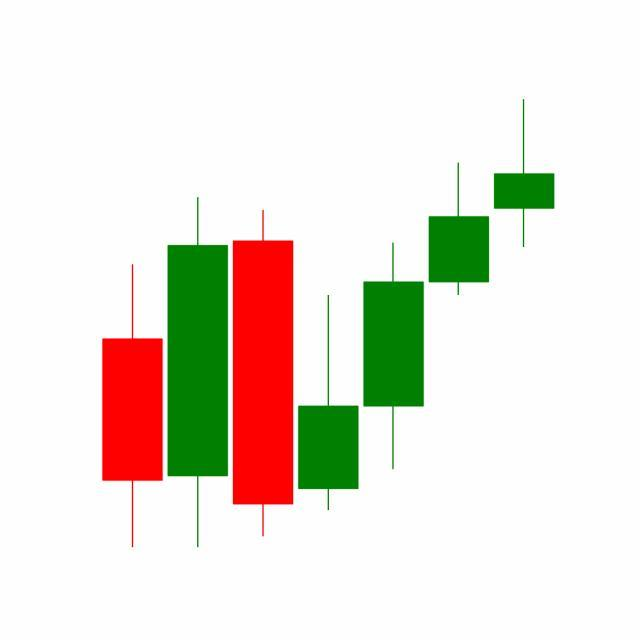Advance Block: (360, 100, 556, 475)
